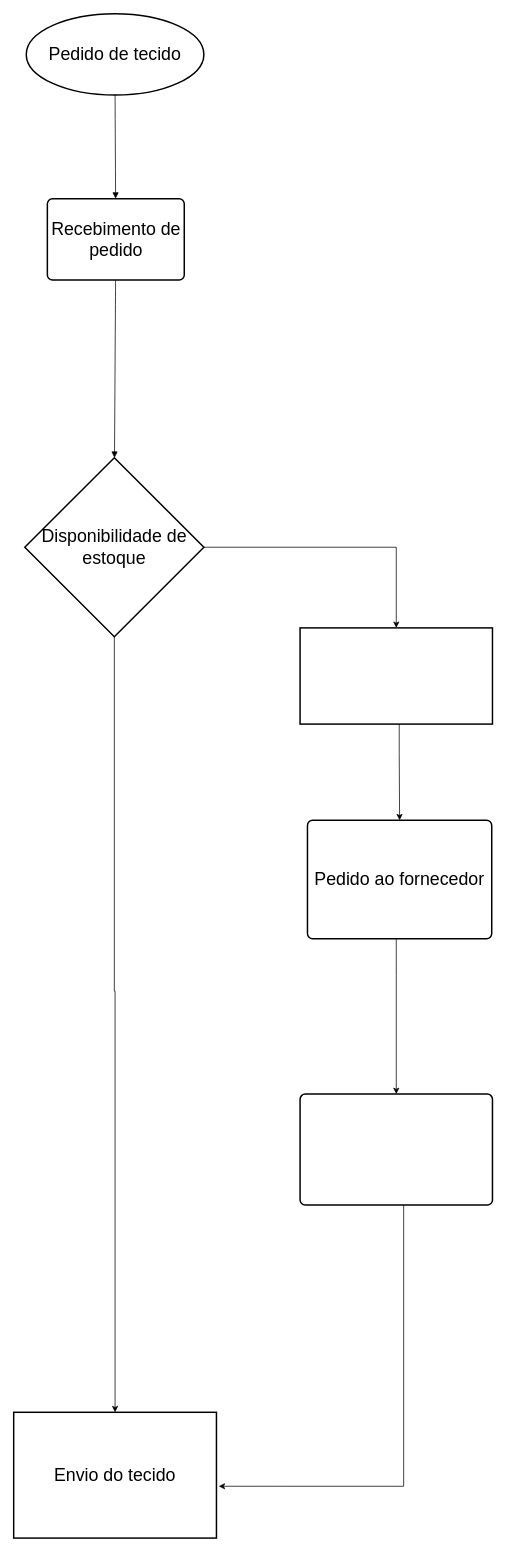
Image size: 505x1551. Some labels were removed from this diagram. Each missing label, with the box of its shape:
Encomenda de tecido: (299, 627, 493, 724)
Recebimento do tecido: (299, 1093, 493, 1205)
